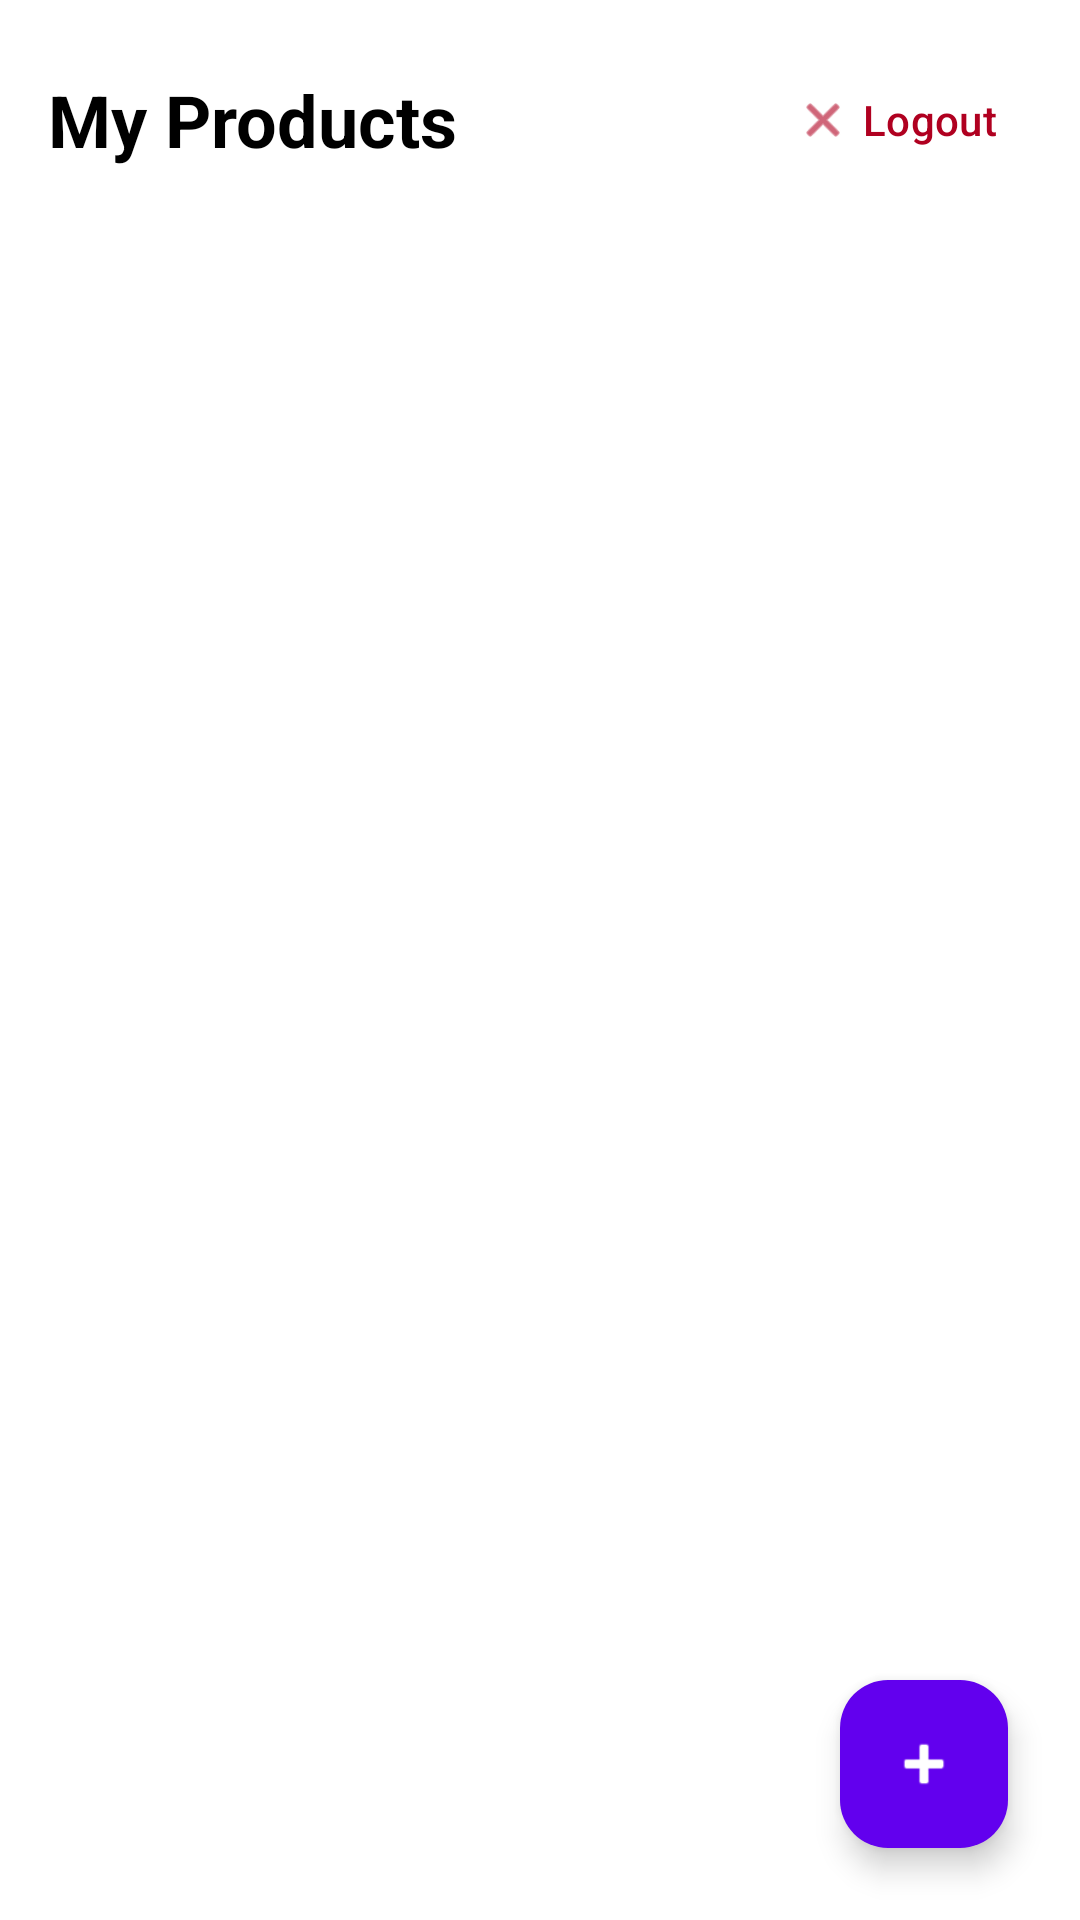

Icons on this 1080x1920 Android screen, each with its box as [left=x1, top=y1, right=x2, bottom=y2]:
Add new product: [left=840, top=1680, right=1008, bottom=1848]
